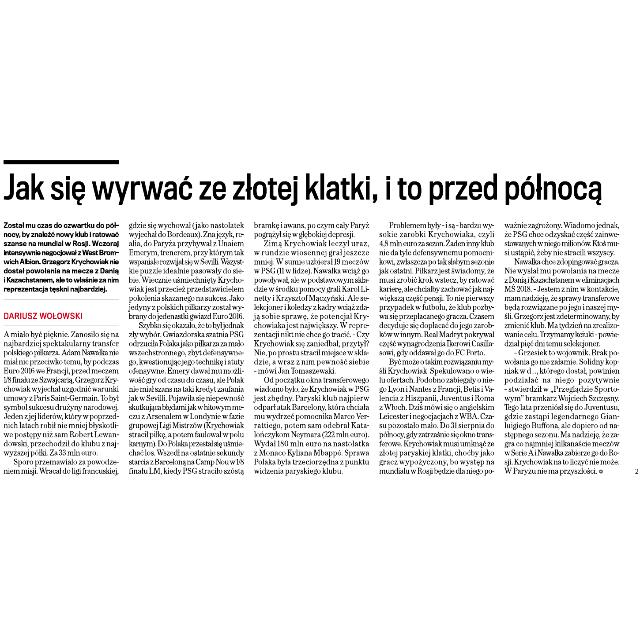author: (1, 310, 88, 322)
body: (500, 218, 624, 478), (250, 219, 372, 477), (376, 218, 496, 477), (128, 220, 246, 478), (1, 328, 120, 478)
lead: (1, 218, 123, 294)
title: (2, 168, 610, 208)
